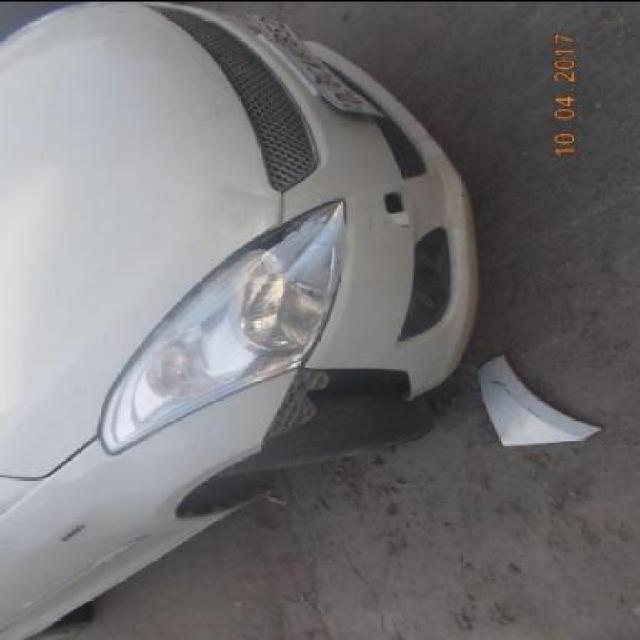damage: (98, 194, 349, 412), (263, 363, 414, 452), (381, 188, 412, 214)
